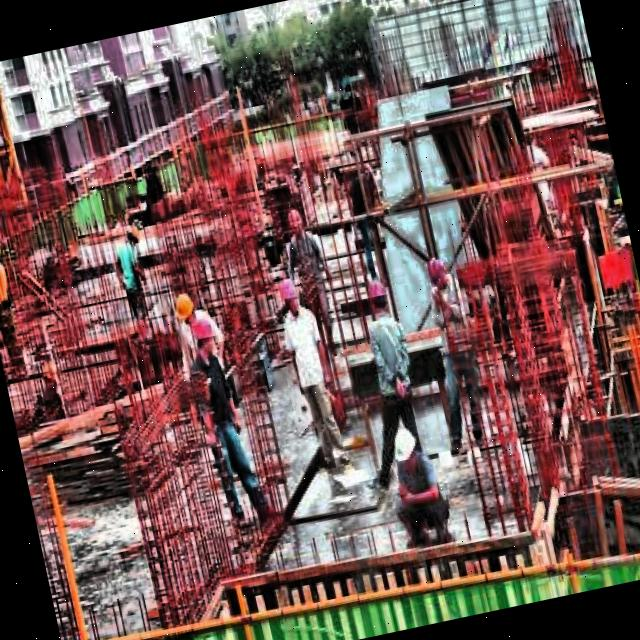helmet: (388, 423, 428, 478), (188, 314, 220, 363), (362, 276, 396, 318), (274, 274, 306, 318), (170, 290, 200, 334), (422, 250, 452, 294), (0, 228, 7, 269)
